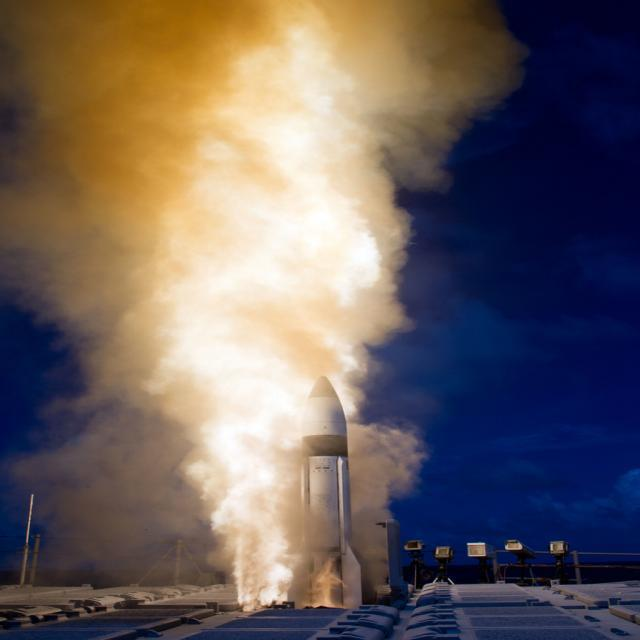Missile: (292, 374, 362, 608)
